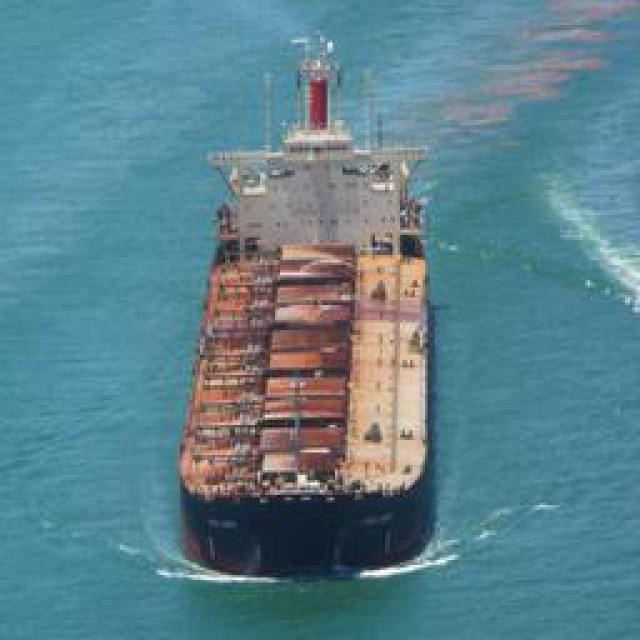Ship: (175, 55, 440, 590)
